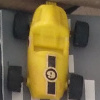carro: (12, 2, 84, 100)
